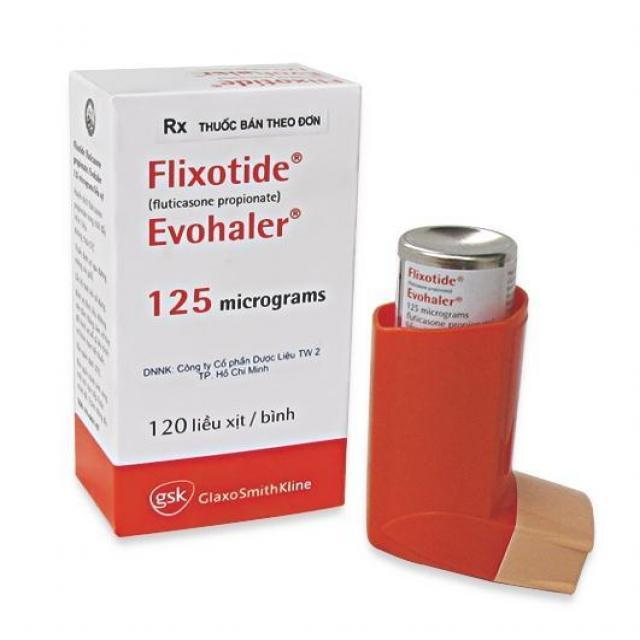drug-name: (146, 150, 293, 193)
